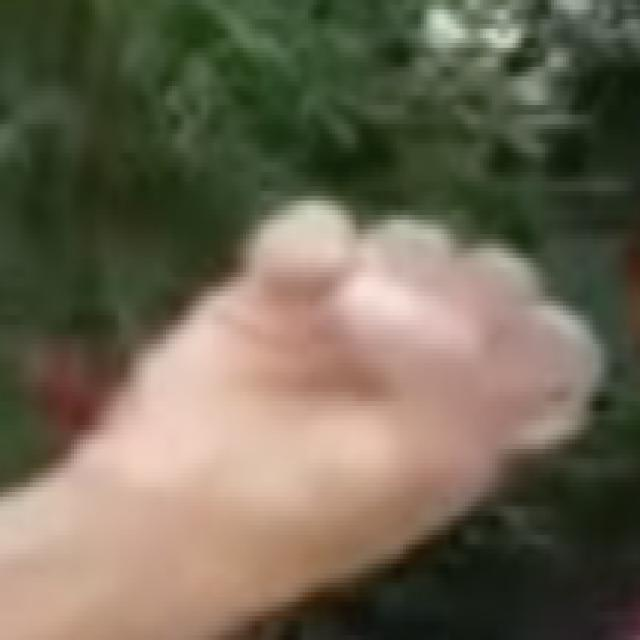S: (96, 192, 606, 599)
